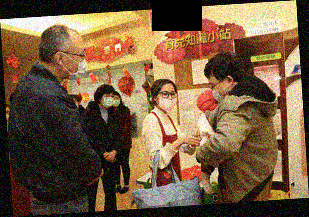with_mask: (63, 46, 87, 81), (157, 89, 178, 112), (209, 80, 230, 103), (102, 94, 115, 110), (113, 96, 121, 109)
